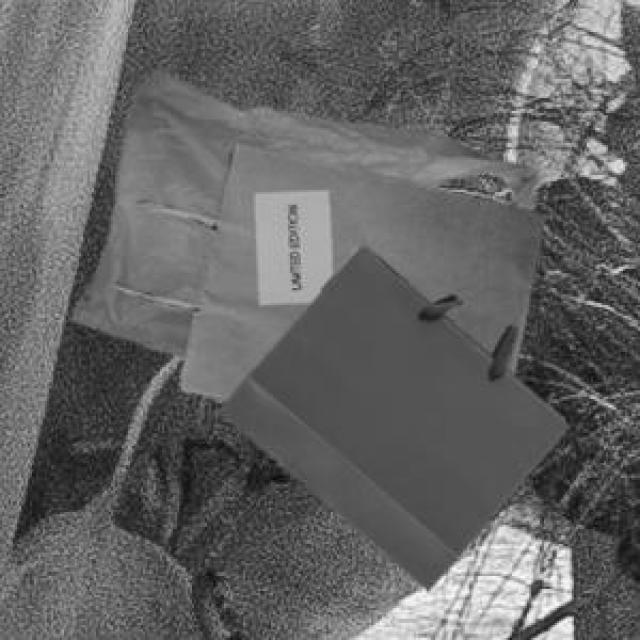paper: (216, 243, 565, 587), (113, 139, 540, 397)
